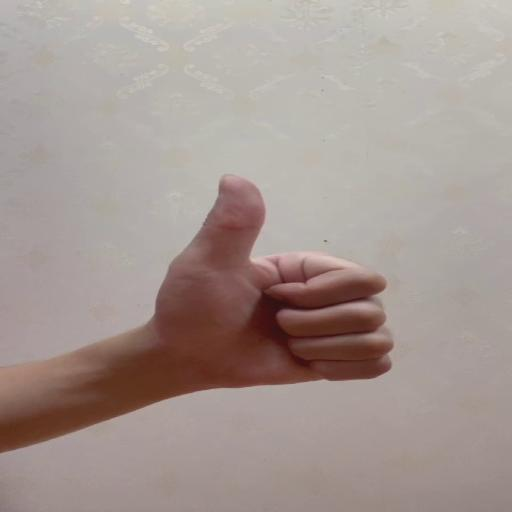thumbs_up: (164, 173, 396, 390)
